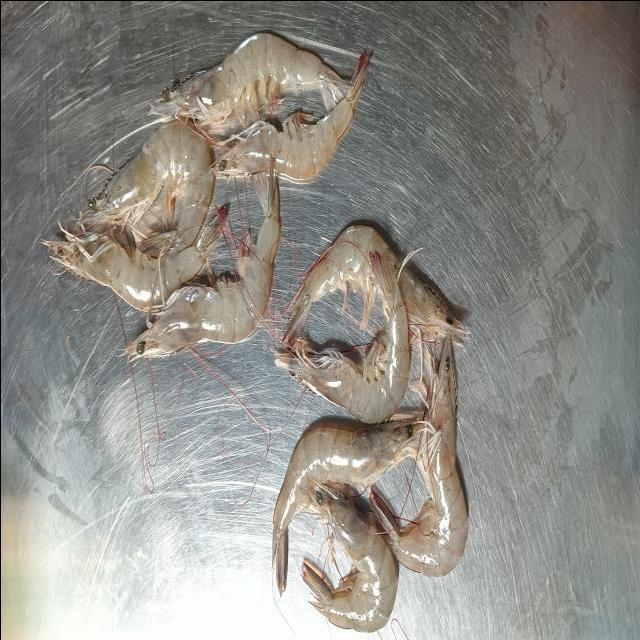shrimp: (124, 173, 280, 361), (271, 419, 421, 591), (370, 332, 468, 576), (274, 250, 409, 423), (214, 51, 369, 182), (151, 33, 348, 133), (89, 120, 214, 250), (46, 219, 220, 310), (301, 485, 398, 631), (284, 224, 399, 343), (398, 266, 468, 337)
